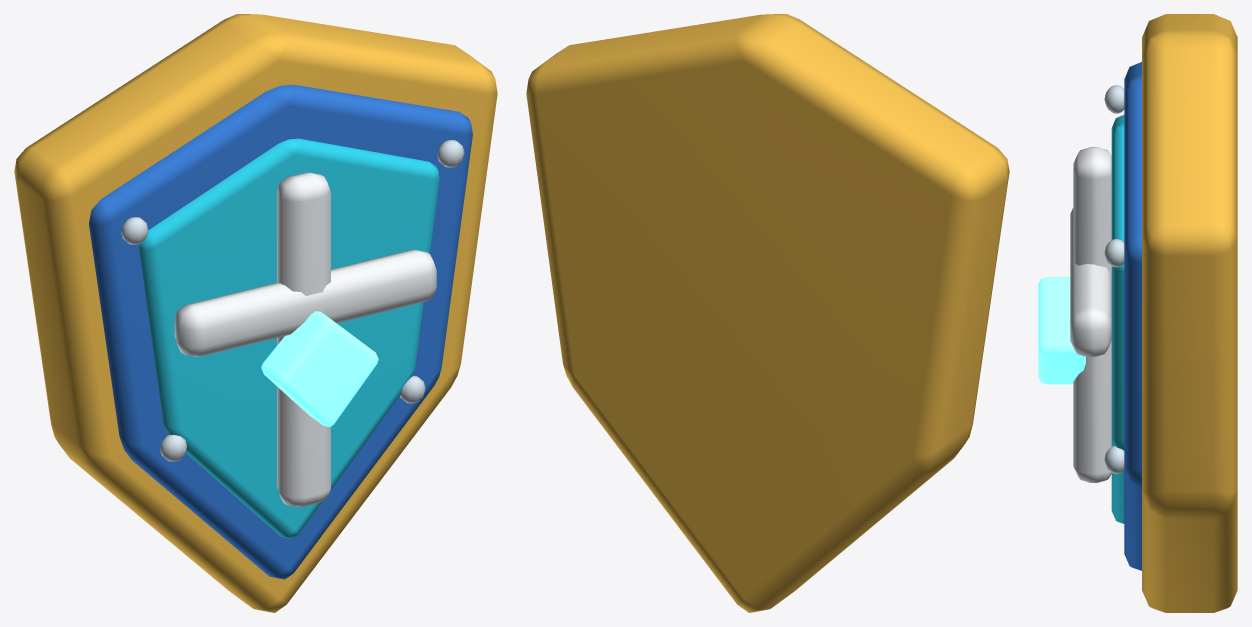
The model's file is shield.glb.
3 views of the same model, side by side, from view 1: azimuth 30°, elevation 25°; view 2: azimuth 150°, elevation 25°; view 3: azimuth 270°, elevation 25° (orthographic).
Visible parts, largest first — view 1: shield__body__Gold, shield__body__Cyan, shield__body__Azure, shield__body__Pearl, shield__body__Cyan_glow, shield__body__Chrome; view 2: shield__body__Gold; view 3: shield__body__Gold, shield__body__Pearl, shield__body__Azure, shield__body__Cyan, shield__body__Cyan_glow, shield__body__Chrome.
Boxes of the visible parts, x1=… form: shield__body__Gold: x1=14, y1=14, x2=497, y2=612; shield__body__Cyan: x1=139, y1=138, x2=439, y2=538; shield__body__Azure: x1=89, y1=84, x2=472, y2=579; shield__body__Pearl: x1=174, y1=172, x2=436, y2=506; shield__body__Cyan_glow: x1=261, y1=311, x2=378, y2=426; shield__body__Chrome: x1=121, y1=140, x2=464, y2=461; shield__body__Gold: x1=526, y1=14, x2=1009, y2=612; shield__body__Gold: x1=1142, y1=14, x2=1237, y2=612; shield__body__Pearl: x1=1070, y1=147, x2=1111, y2=482; shield__body__Azure: x1=1124, y1=62, x2=1141, y2=570; shield__body__Cyan: x1=1111, y1=115, x2=1124, y2=523; shield__body__Cyan_glow: x1=1038, y1=277, x2=1085, y2=384; shield__body__Chrome: x1=1104, y1=85, x2=1124, y2=473.
Bounding box in the file's own units: 1.64 × 1.99 × 0.625.
